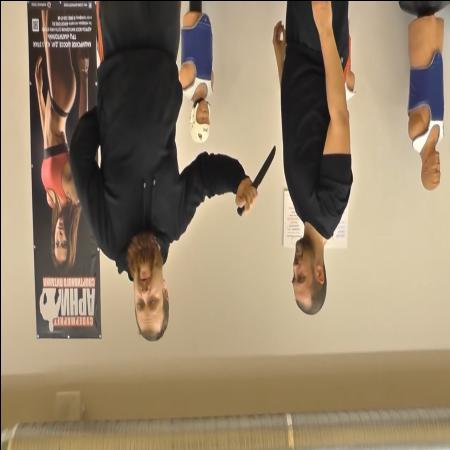long weapon: (236, 141, 278, 219)
